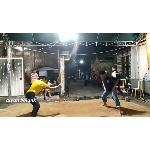Celurit: (54, 72, 66, 88)
